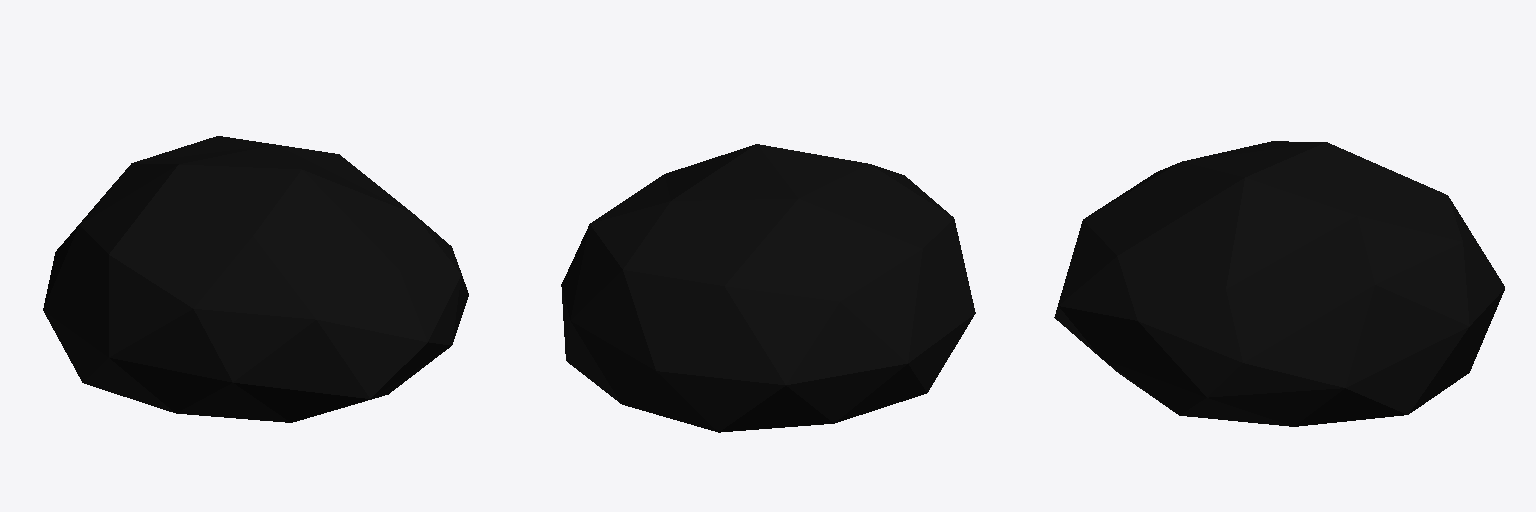
Rendered from low_poly_stone1.obj.
3 views of the same model, side by side, from view 1: azimuth 30°, elevation 25°; view 2: azimuth 150°, elevation 25°; view 3: azimuth 270°, elevation 25° (orthographic).
Parts seen in each view (by area): view 1: Icosphere.009_Icosphere.004; view 2: Icosphere.009_Icosphere.004; view 3: Icosphere.009_Icosphere.004.
Part boxes in pixels (left/top/right/bottom): Icosphere.009_Icosphere.004: left=43, top=136, right=468, bottom=422; Icosphere.009_Icosphere.004: left=561, top=144, right=975, bottom=432; Icosphere.009_Icosphere.004: left=1054, top=141, right=1504, bottom=426.
Bounding box in the file's own units: 1.22 × 0.607 × 1.34.